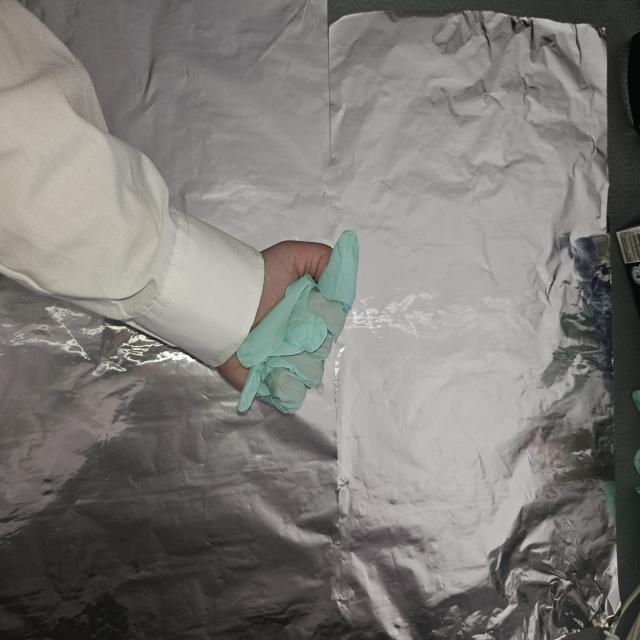glove_partial: (214, 228, 360, 420)
